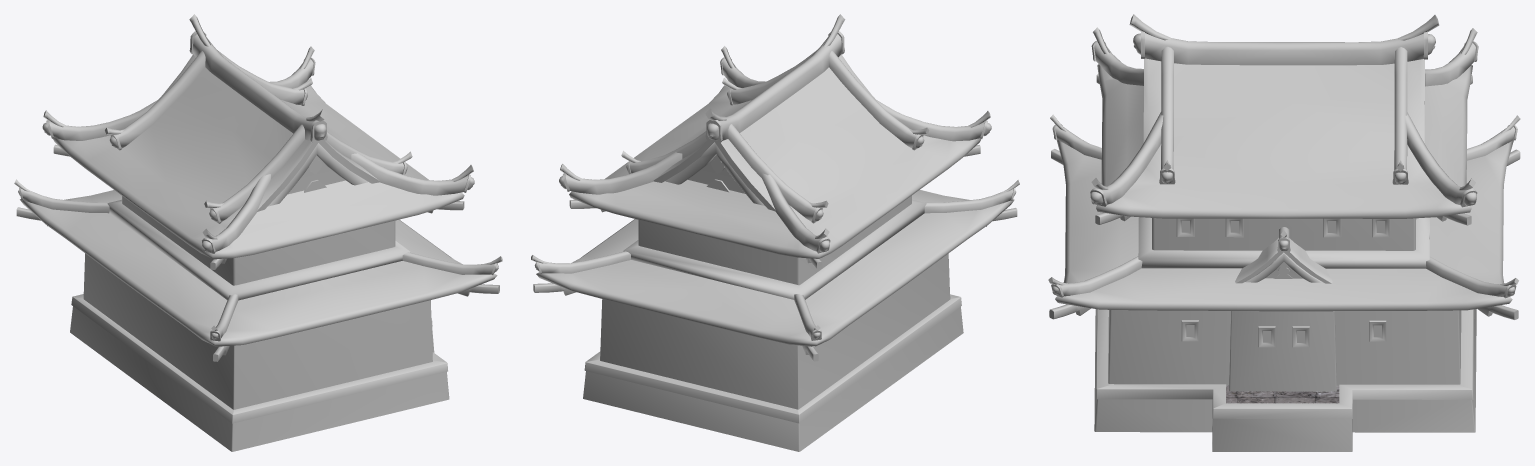
File: SM_AsianCastle_C.FBX
The picture shows the model from 3 angles, left to right: view 1: azimuth 30°, elevation 25°; view 2: azimuth 150°, elevation 25°; view 3: azimuth 270°, elevation 25°; orthographic projection. The views are drawn at different scales.
Parts seen in each view (by area): view 1: SM_AsianCastle_C; view 2: SM_AsianCastle_C; view 3: SM_AsianCastle_C.
Part boxes in pixels (left/top/right/bottom): SM_AsianCastle_C: left=14, top=14, right=502, bottom=451; SM_AsianCastle_C: left=531, top=14, right=1019, bottom=451; SM_AsianCastle_C: left=1048, top=14, right=1520, bottom=451.
Bounding box in the file's own units: 1023 × 1230 × 1021.
